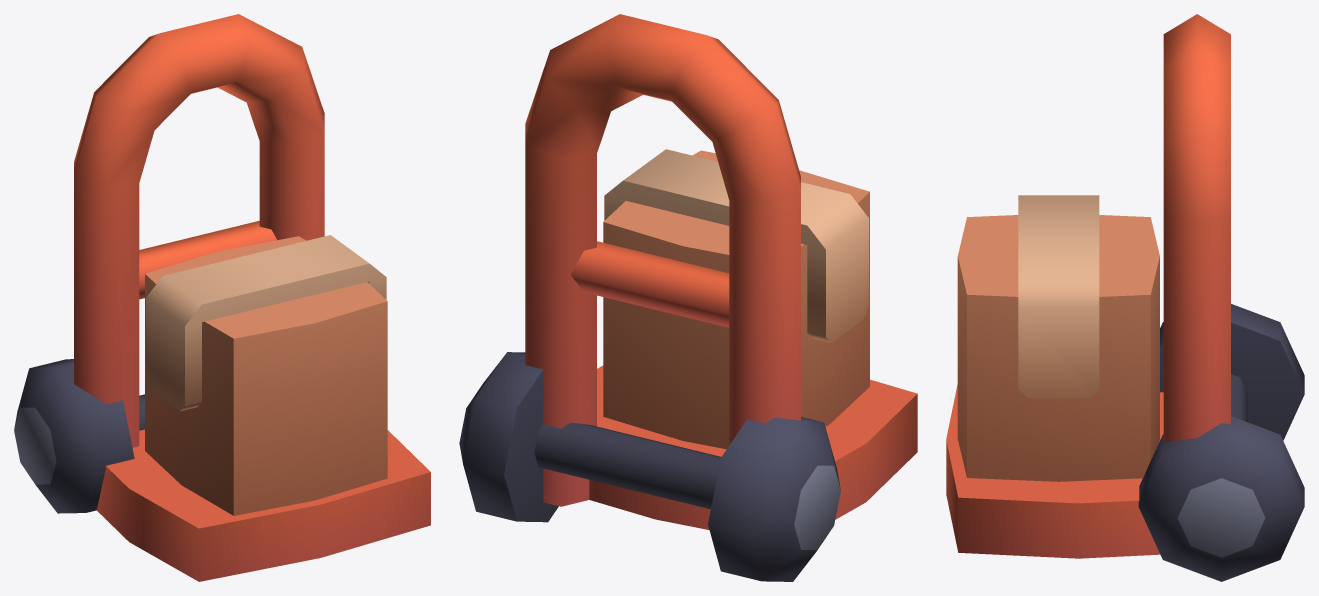
Rendered from hand-truck.fbx.
3 views of the same model, side by side, from view 1: azimuth 30°, elevation 25°; view 2: azimuth 150°, elevation 25°; view 3: azimuth 270°, elevation 25° (orthographic). The views are drawn at different scales.
Visible parts, largest first — view 1: hand-truck, box; view 2: hand-truck, box; view 3: hand-truck, box.
Boxes of the visible parts, x1,y1,x2,y2 form: hand-truck: (14, 14, 430, 581); box: (145, 235, 387, 515); hand-truck: (459, 14, 917, 581); box: (603, 149, 869, 449); hand-truck: (946, 14, 1304, 581); box: (957, 195, 1159, 481).
Size of the model in its own units: 37.33 by 54.66 by 36.8.
Materials: 1 (1 with a texture image).
